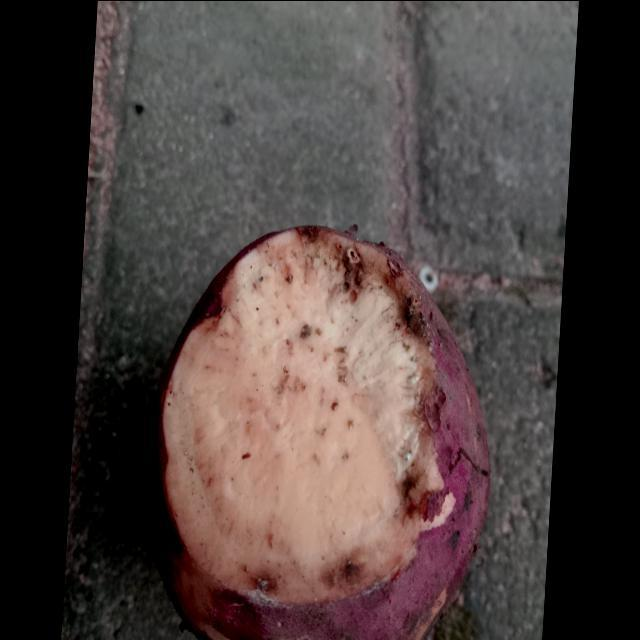Sick Sweet Potato_Tuber Rot: (162, 227, 442, 602)
